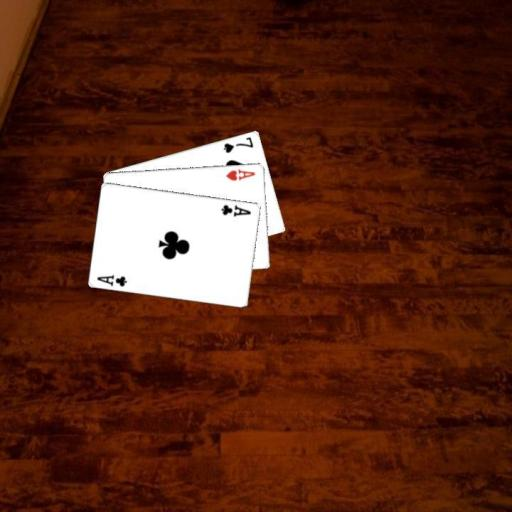7S: (221, 133, 255, 154)
AC: (219, 201, 253, 218), (95, 271, 129, 288)
AH: (223, 166, 257, 181)
